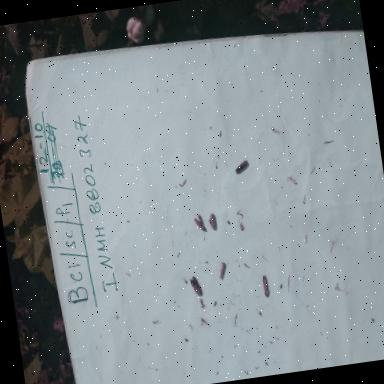pbw: (186, 272, 203, 300), (191, 210, 209, 236), (232, 157, 250, 176), (260, 272, 272, 300), (207, 210, 220, 232), (214, 260, 228, 280)
